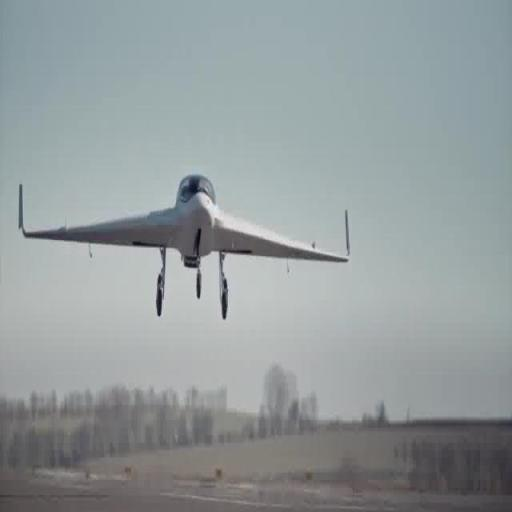uav: (11, 168, 357, 322)
